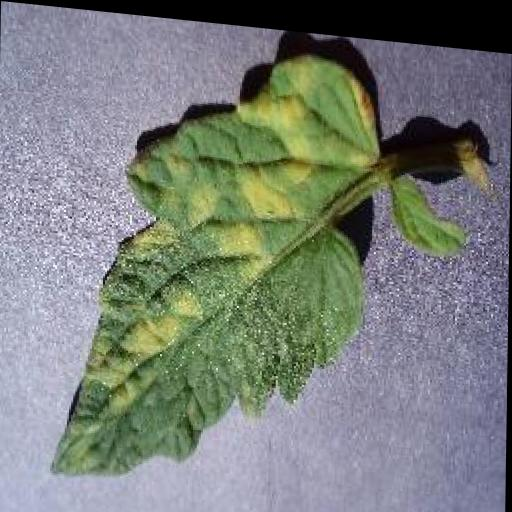Leaf Mold: (49, 25, 387, 502)
